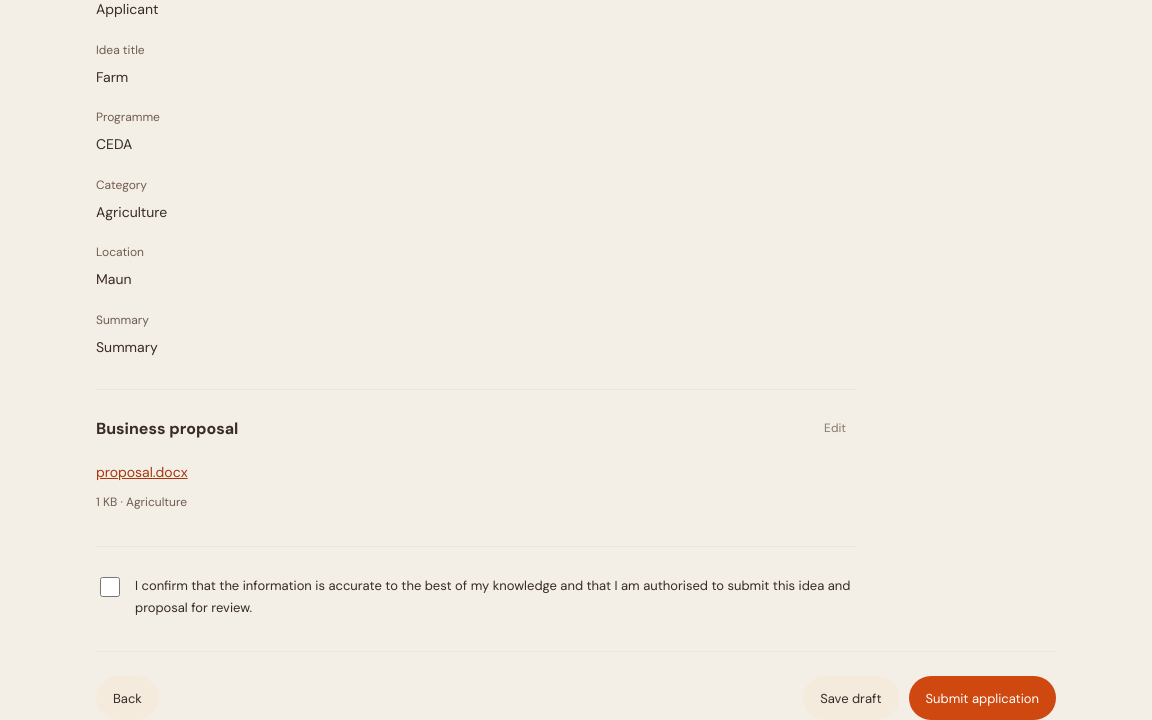
requires a declaration then submits without requiring inline business questions
Later steps or results of the test are not shown.
(page scrolled)
What coordinates should you click on to do the following:
click the button "Submit application"
I would click on:
 (982, 698)
Its box is [908,676,1056,719].
(page scrolled)
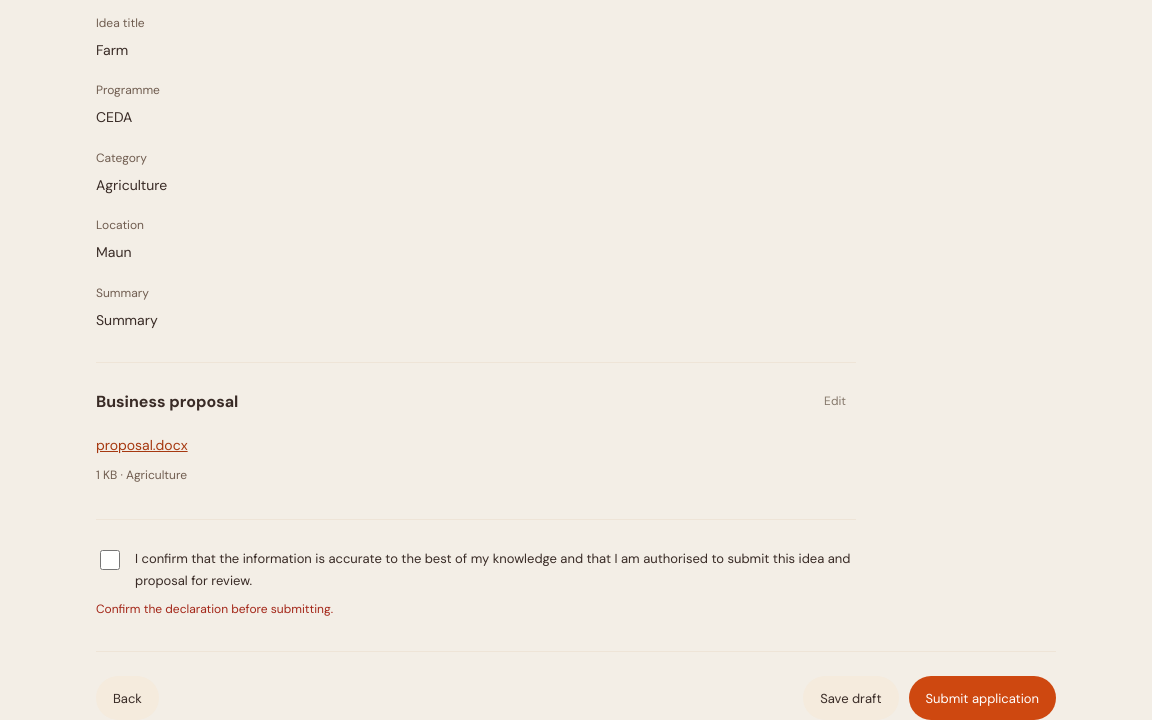
Now the text "Confirm the declaration before submitting." is shown, box [96,601,333,617]
